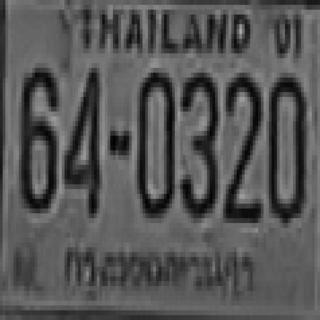N00: (266, 70, 304, 221), (134, 68, 172, 213)
N02: (222, 68, 260, 218)
N03: (179, 68, 217, 213)
N04: (62, 63, 100, 213)
N06: (16, 63, 56, 208)
P04: (57, 234, 263, 310)
